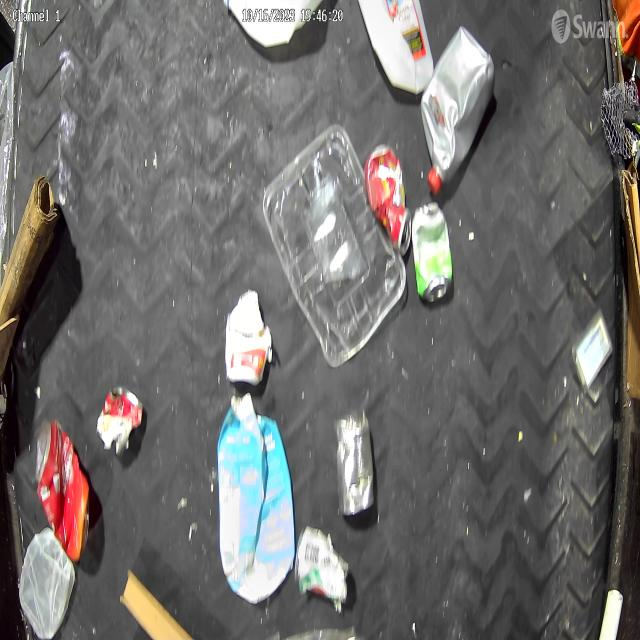can: (364, 142, 412, 255), (294, 524, 351, 615), (332, 408, 377, 520), (412, 199, 454, 305), (96, 383, 145, 457)
milk_jug: (357, 0, 435, 94), (222, 0, 322, 48)
non_white_jug: (217, 393, 297, 605), (420, 23, 496, 199)
